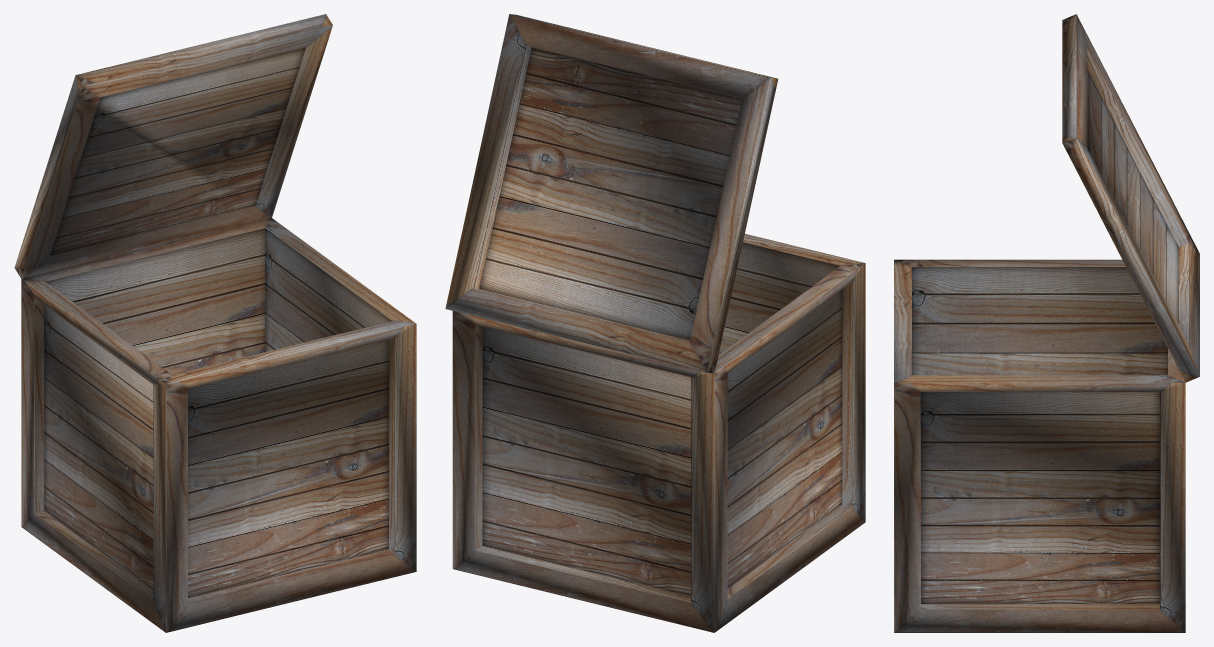
File: UseCrate2@Close.fbx
3 views of the same model, side by side, from view 1: azimuth 30°, elevation 25°; view 2: azimuth 150°, elevation 25°; view 3: azimuth 270°, elevation 25° (orthographic). The views are drawn at different scales.
Parts seen in each view (by area): view 1: Body, Cap; view 2: Body, Cap; view 3: Body, Cap.
Boxes of the visible parts, x1=… form: Body: x1=21, y1=218, x2=416, y2=632; Cap: x1=14, y1=14, x2=332, y2=278; Body: x1=452, y1=233, x2=865, y2=632; Cap: x1=445, y1=14, x2=778, y2=373; Body: x1=894, y1=259, x2=1185, y2=632; Cap: x1=1062, y1=14, x2=1199, y2=382.
Bounding box in the file's own units: 12.5 × 23.44 × 13.1.
Materials: 1 (1 with a texture image).
